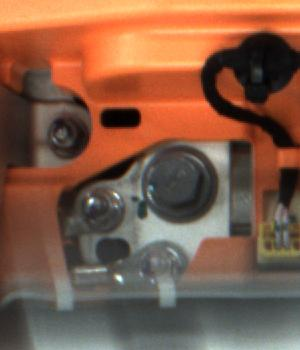nut_b: (139, 142, 221, 226)
